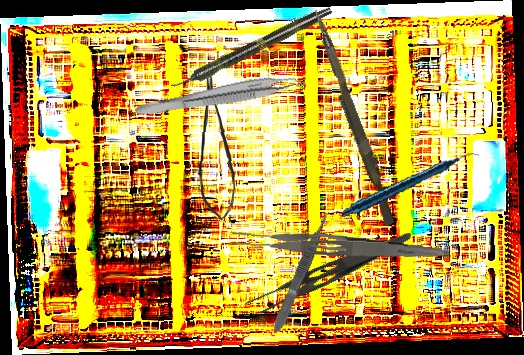Dressing Forceps: (242, 214, 414, 326), (229, 227, 445, 262)
Handpiece: (168, 2, 335, 95), (341, 131, 480, 240)
Micro Scissor: (196, 71, 241, 222)
Pusher: (304, 8, 401, 226)
Tissue Forceps: (134, 68, 306, 127), (269, 210, 334, 335)
